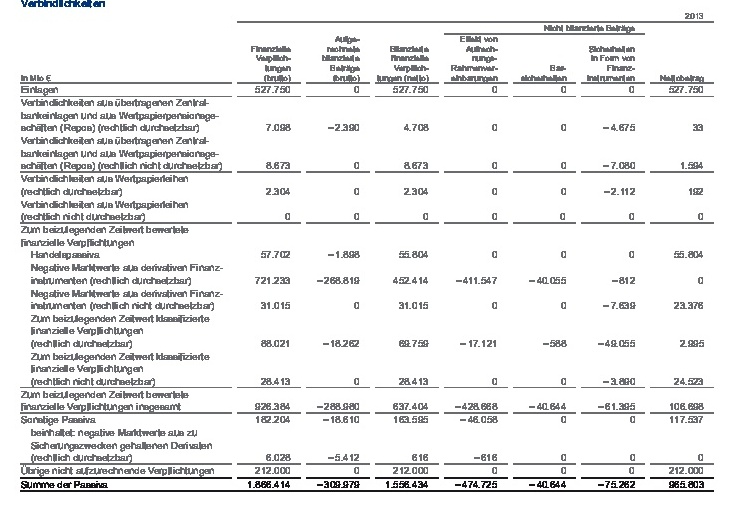table: (0, 0, 735, 518)
